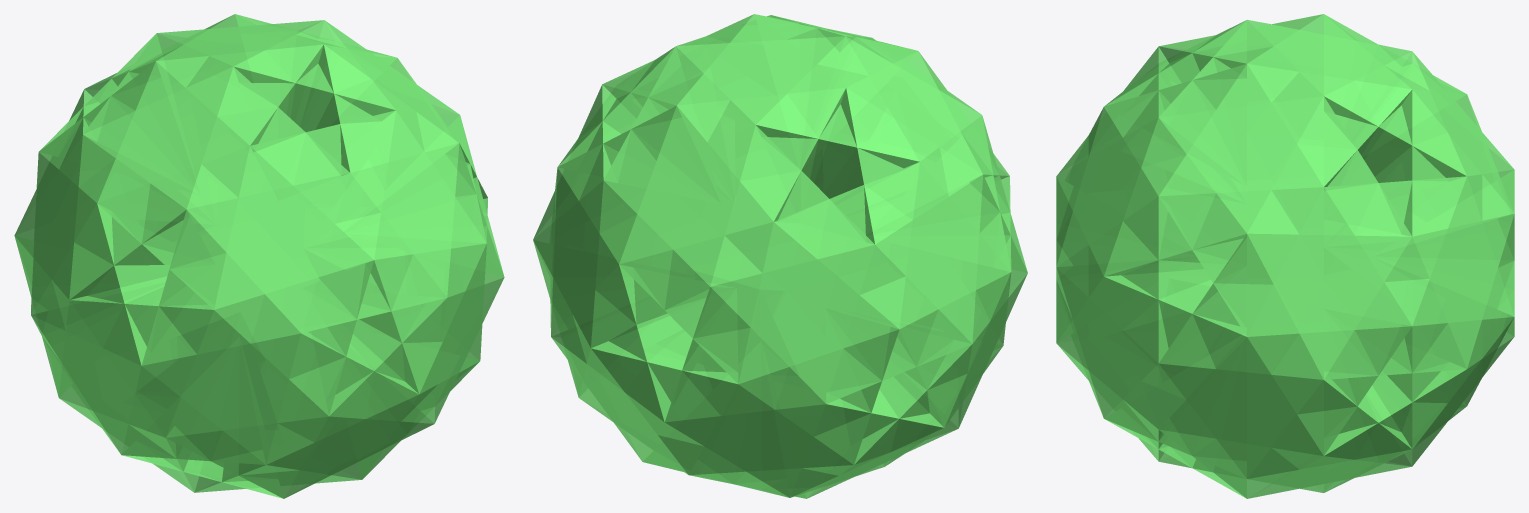
Rendered from 16_Dodekexcavated_Seside.obj.
The picture shows the model from 3 angles, left to right: view 1: azimuth 30°, elevation 25°; view 2: azimuth 150°, elevation 25°; view 3: azimuth 270°, elevation 25°; orthographic projection.
Bounding box in the file's own units: 2.87 × 2.81 × 2.72.
